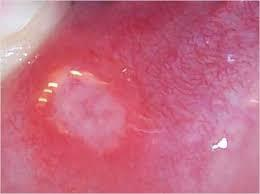Ulcer: (36, 68, 145, 162)
